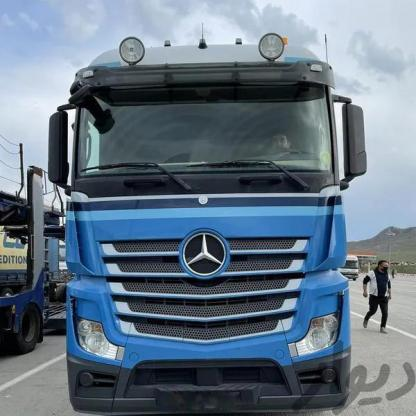Truck: (50, 46, 358, 410)
